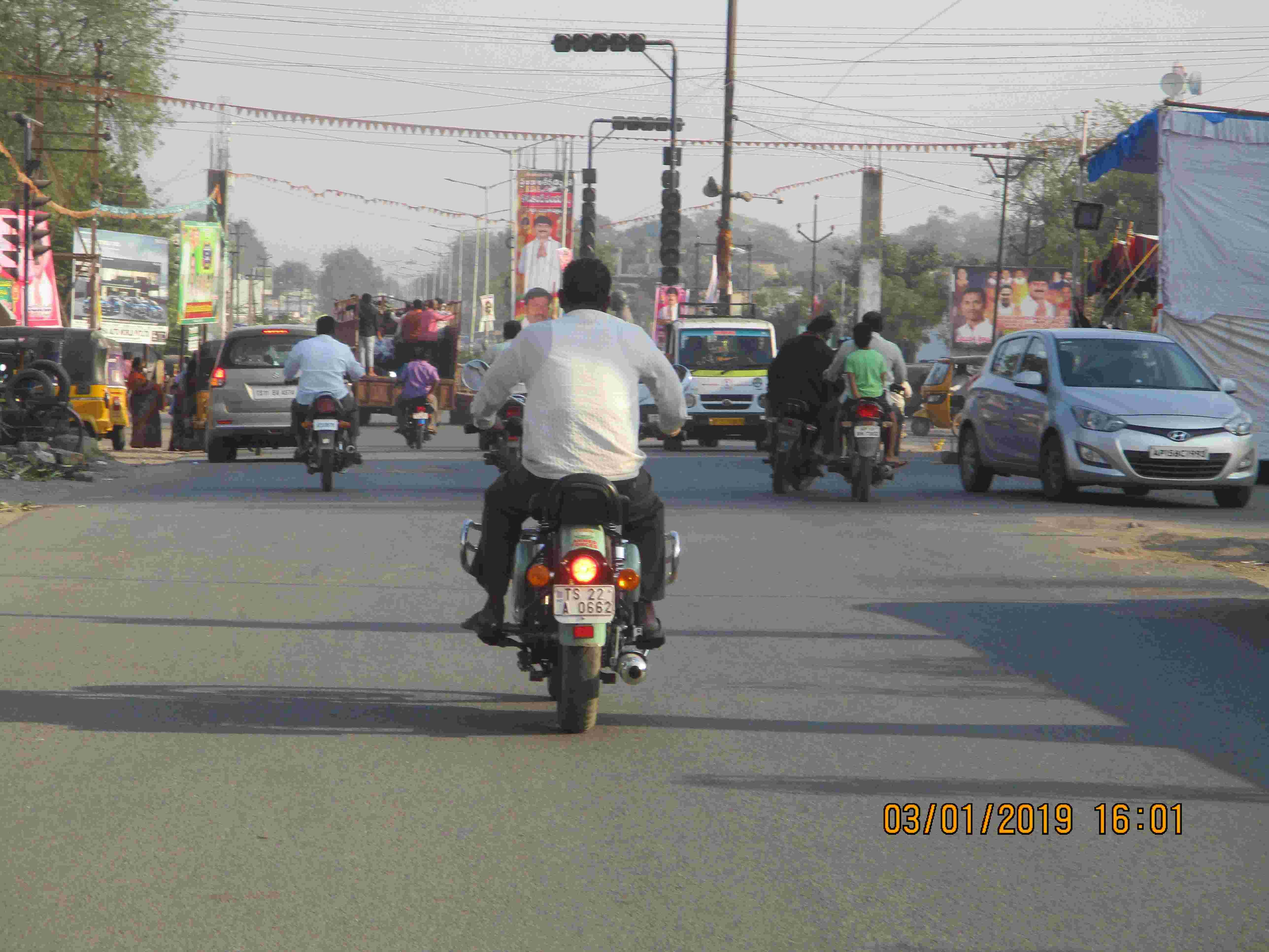plate: (547, 579, 621, 627), (307, 410, 345, 432)
